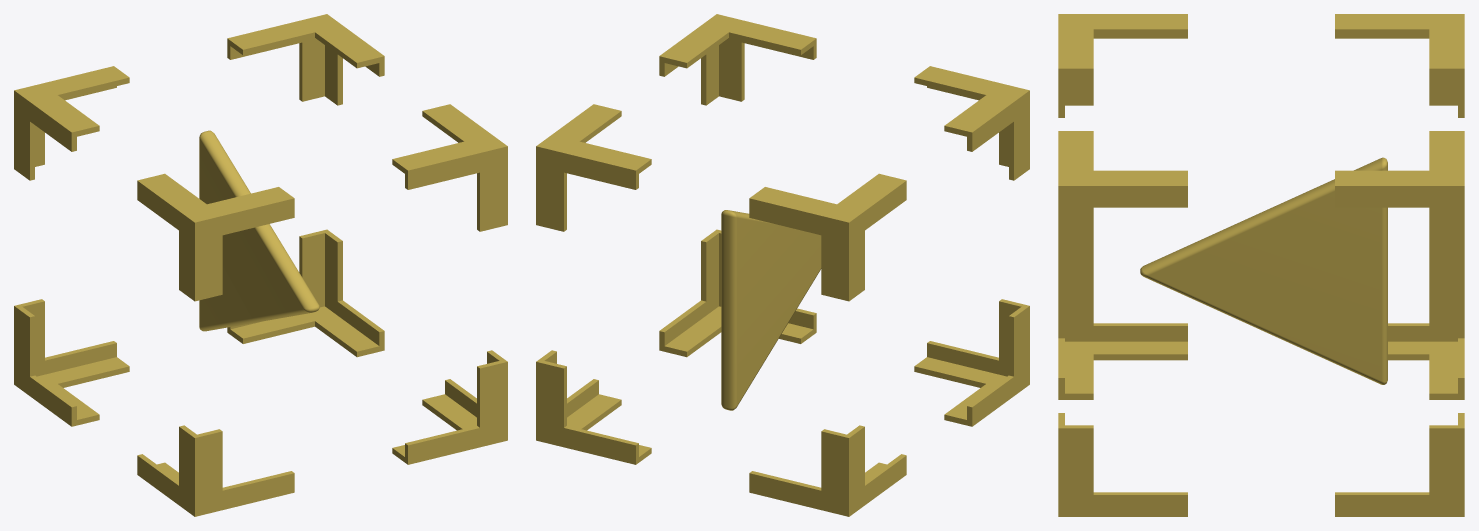
Rendered from icon play.fbx.
The picture shows the model from 3 angles, left to right: view 1: azimuth 30°, elevation 25°; view 2: azimuth 150°, elevation 25°; view 3: azimuth 270°, elevation 25°; orthographic projection. The views are drawn at different scales.
Visible parts, largest first — view 1: play_cube, play_icon; view 2: play_cube, play_icon; view 3: play_cube, play_icon.
Boxes of the visible parts, x1,y1,x2,y2 form: play_cube: (14, 14, 507, 516); play_icon: (199, 130, 319, 331); play_cube: (536, 14, 1029, 516); play_icon: (721, 210, 821, 410); play_cube: (1058, 14, 1464, 516); play_icon: (1140, 157, 1387, 384).
Size of the model in its own units: 0.1185 by 0.1064 by 0.1185.
